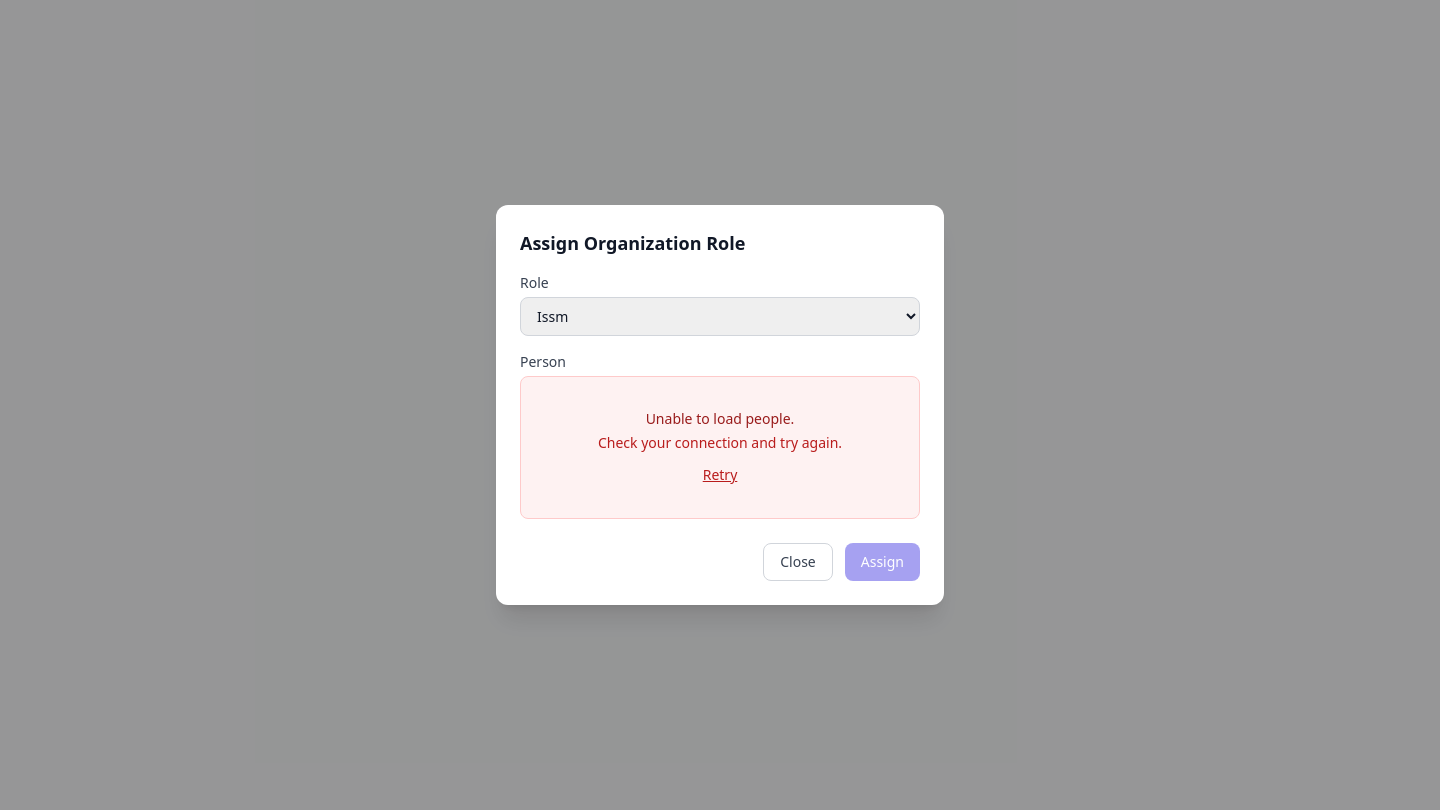
Test: AssignRoleDialog — #713 person-picker via listPersons() › shows a safe error and recovers when loading people fails
Expected: the message shows "Unable to load people", [646,409,794,428]
Expected: the message does not show "person-service-internal-code", [520,376,920,519]
Click the button "Retry". click: point(720, 475)
box: [703,465,737,485]
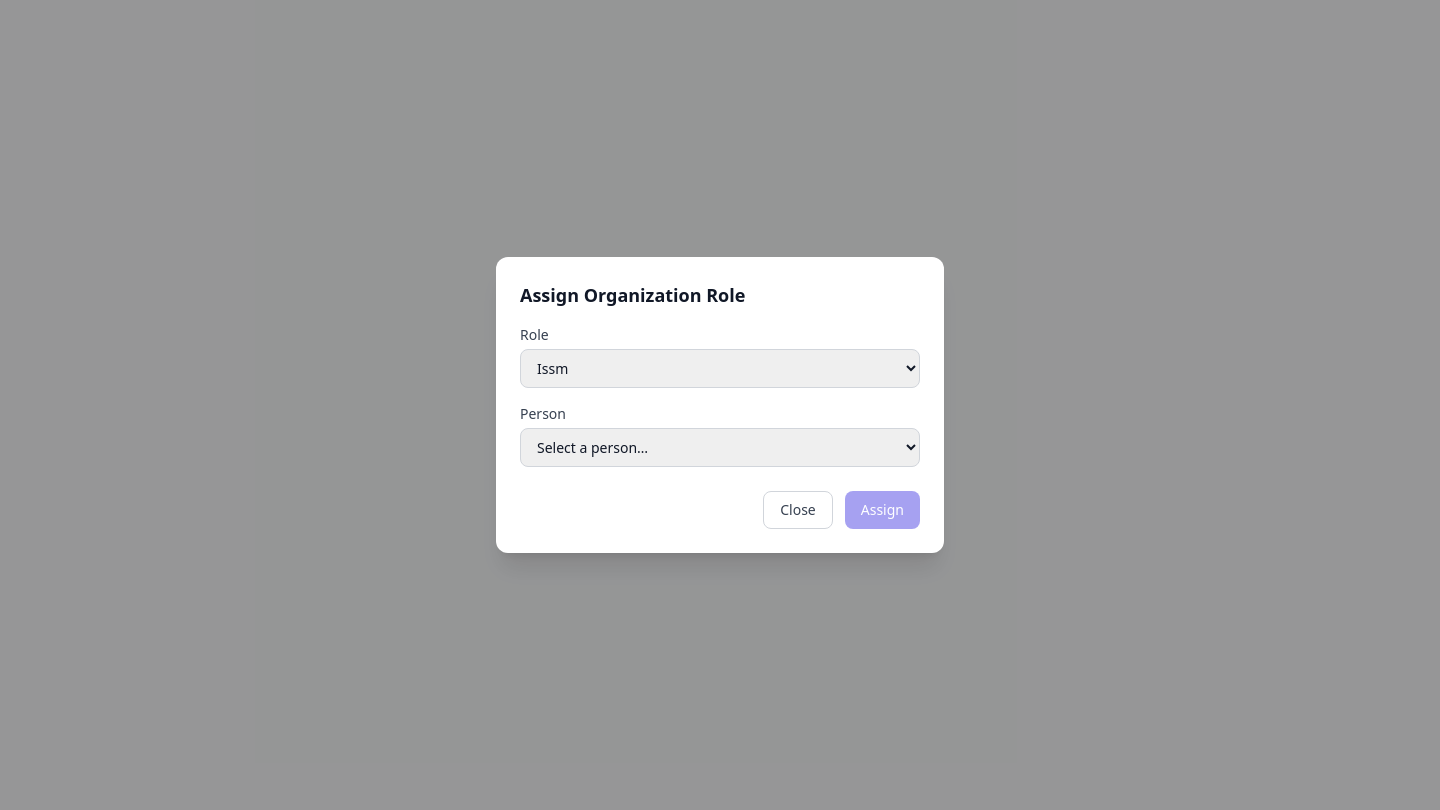
Expected: the dropdown labelled "Person" shows "Select a person…", [520,428,920,467]
